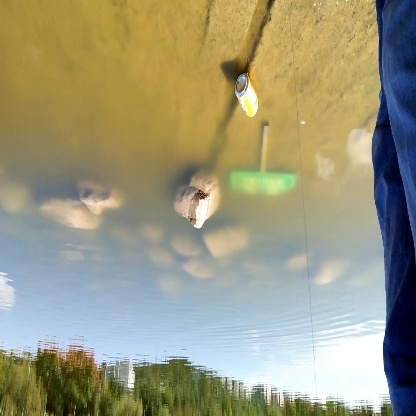bottle: (233, 70, 259, 117)
